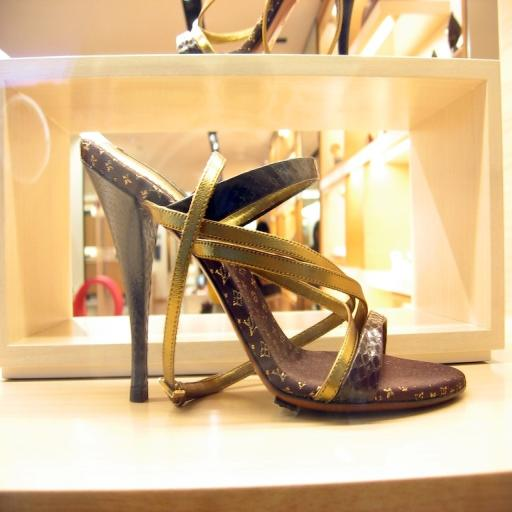heels: (81, 137, 465, 411)
